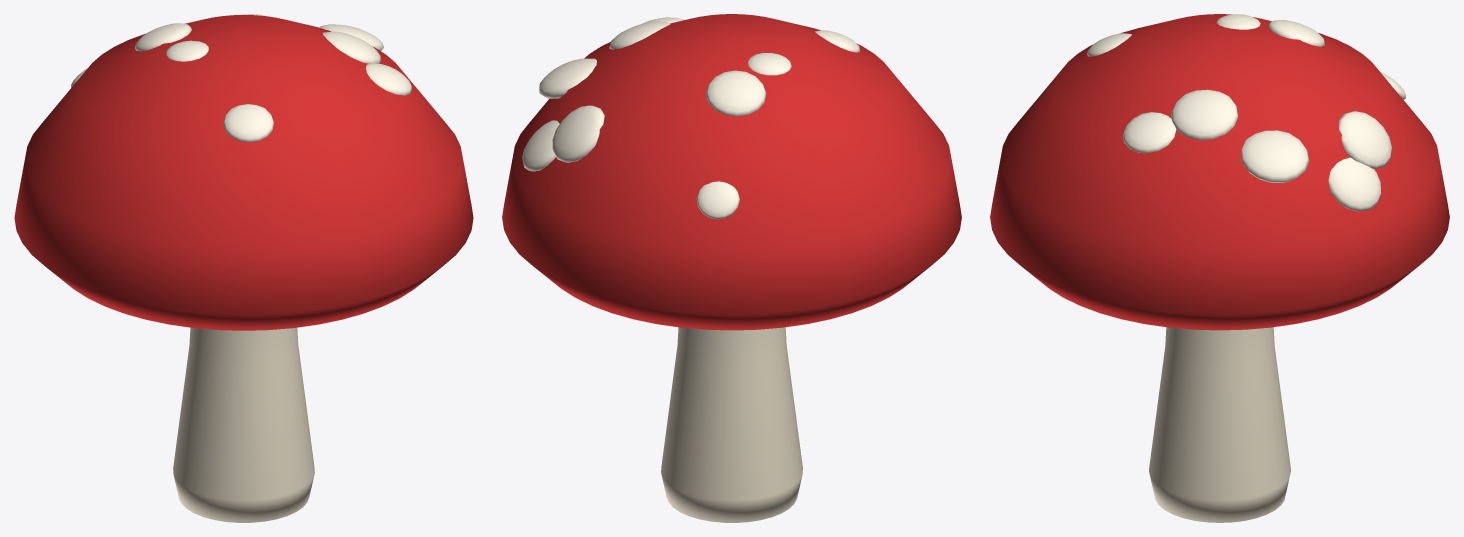
The model's file is mushroom.glb.
3 renders of one model, left to right at view 1: azimuth 30°, elevation 25°; view 2: azimuth 150°, elevation 25°; view 3: azimuth 270°, elevation 25°, orthographic.
Visible parts, largest first — view 1: Cap, Stem, Spot.7, Spot.5, Spot.6, Spot.8, Spot.3, Spot.2; view 2: Cap, Stem, Spot.8, Spot.4, Spot.2, Spot, Spot.9, Spot.3, Spot.5; view 3: Cap, Stem, Spot.2, Spot.5, Spot.4, Spot.9, Spot.6, Spot.8, Spot.3, Spot.7.
Boxes of the visible parts, x1=… form: Cap: x1=14, y1=15, x2=473, y2=330; Stem: x1=173, y1=327, x2=314, y2=522; Spot.7: x1=223, y1=104, x2=273, y2=142; Spot.5: x1=322, y1=31, x2=380, y2=63; Spot.6: x1=366, y1=63, x2=411, y2=95; Spot.8: x1=135, y1=23, x2=191, y2=51; Spot.3: x1=166, y1=40, x2=208, y2=61; Spot.2: x1=319, y1=24, x2=383, y2=50; Cap: x1=502, y1=14, x2=961, y2=330; Stem: x1=661, y1=327, x2=802, y2=522; Spot.8: x1=706, y1=70, x2=766, y2=116; Spot.4: x1=552, y1=105, x2=604, y2=162; Spot.2: x1=539, y1=58, x2=596, y2=98; Spot: x1=696, y1=181, x2=739, y2=219; Spot.9: x1=522, y1=120, x2=559, y2=171; Spot.3: x1=748, y1=53, x2=791, y2=75; Spot.5: x1=609, y1=21, x2=670, y2=49; Cap: x1=990, y1=14, x2=1449, y2=330; Stem: x1=1149, y1=327, x2=1290, y2=522; Spot.2: x1=1241, y1=130, x2=1309, y2=182; Spot.5: x1=1171, y1=89, x2=1238, y2=139; Spot.4: x1=1339, y1=111, x2=1391, y2=169; Spot.9: x1=1328, y1=157, x2=1380, y2=211; Spot.6: x1=1123, y1=112, x2=1176, y2=153; Spot.8: x1=1268, y1=19, x2=1324, y2=46; Spot.3: x1=1217, y1=14, x2=1260, y2=29; Spot.7: x1=1087, y1=33, x2=1131, y2=56.
Bounding box in the file's own units: 0.84 × 0.92 × 0.84.
